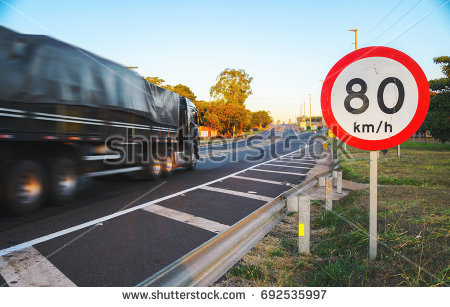Speed_limit_80km: (321, 48, 428, 150)
